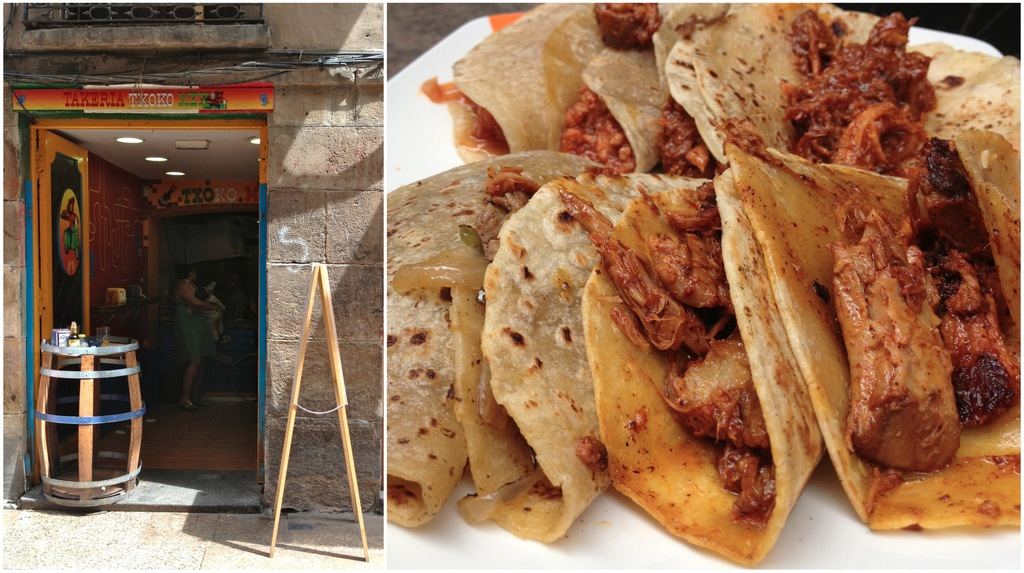taco: (356, 140, 618, 552), (745, 160, 1023, 538), (408, 174, 662, 552), (598, 165, 833, 561), (422, 8, 740, 183), (684, 0, 932, 156), (884, 55, 1023, 301)
